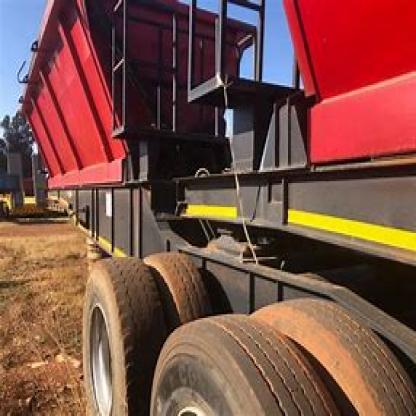dump_truck: (13, 7, 415, 412)
